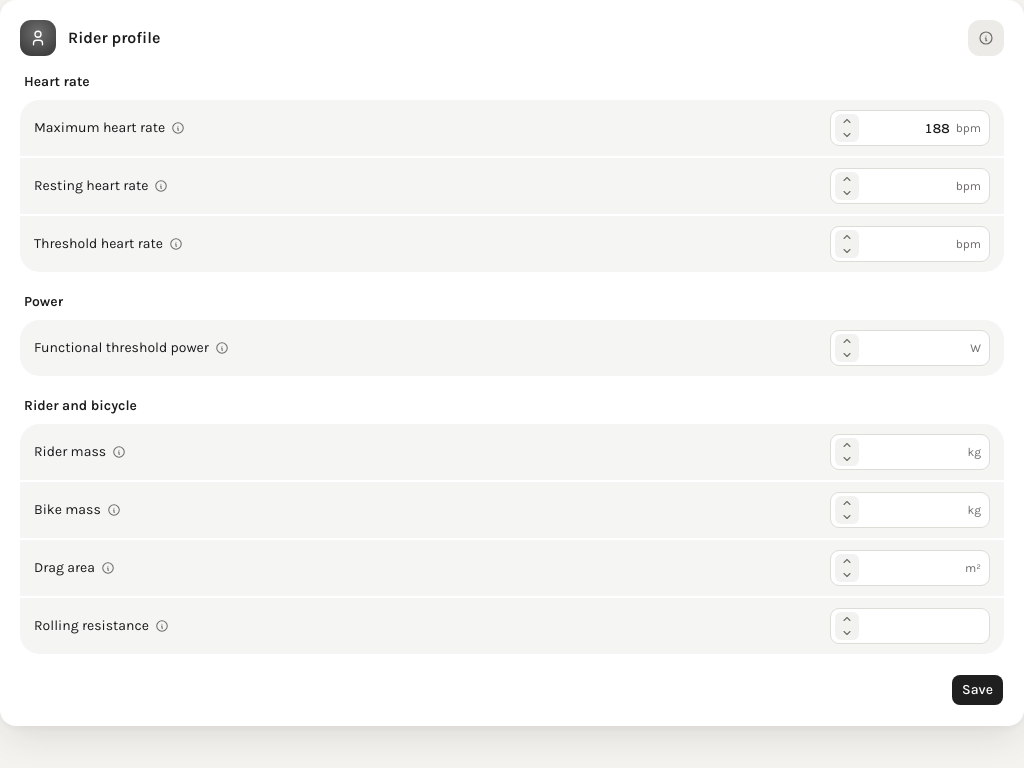
RiderProfile › says so when the save was refused
This screenshot has width=1024, height=768.
Click the button with aria-label "Save rider profile": (978, 690) [951,674,1004,706]
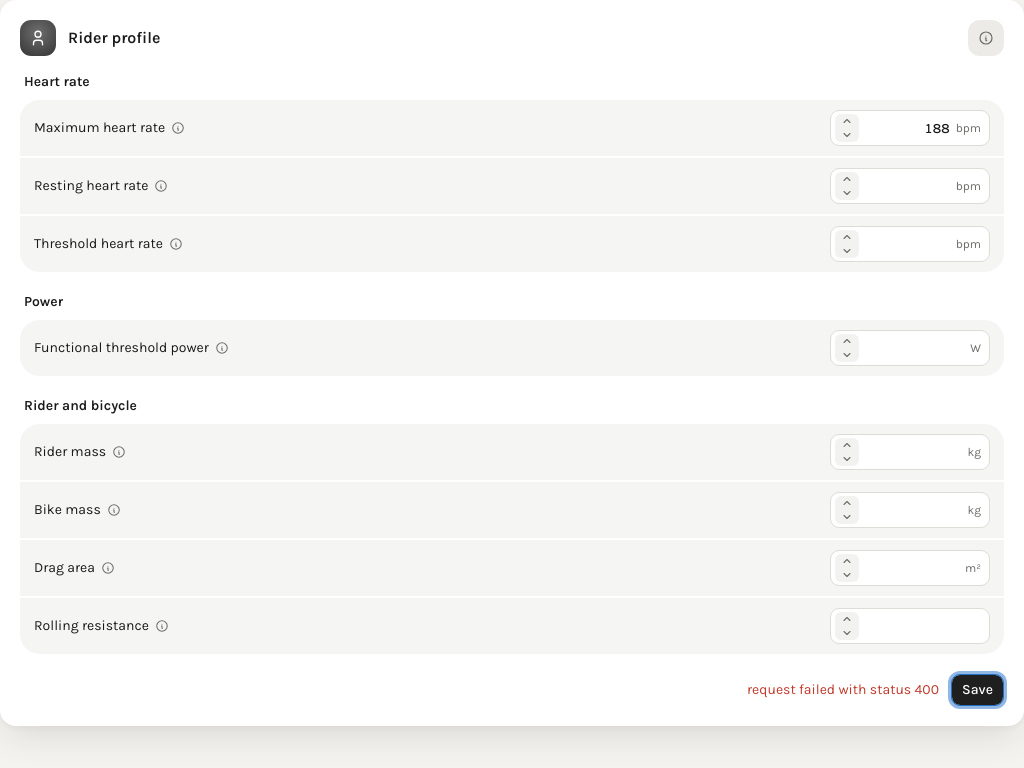
Now the message "request failed with status 400" is shown, box [747,680,939,700]
